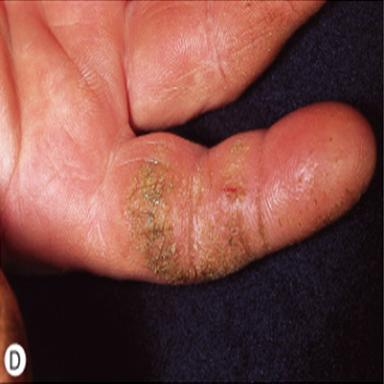eczema: (123, 133, 271, 286)
